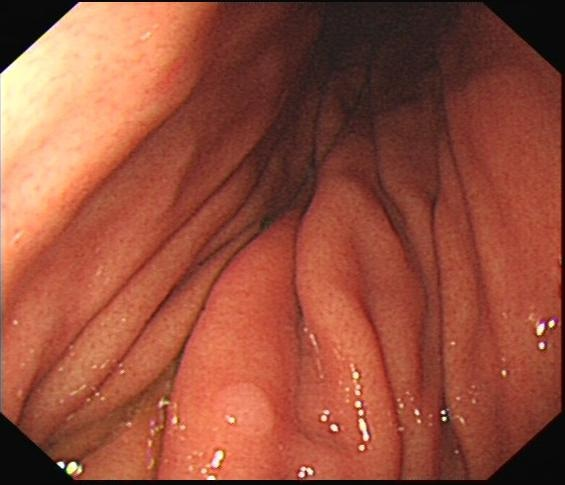Polyp: (203, 370, 297, 452)
